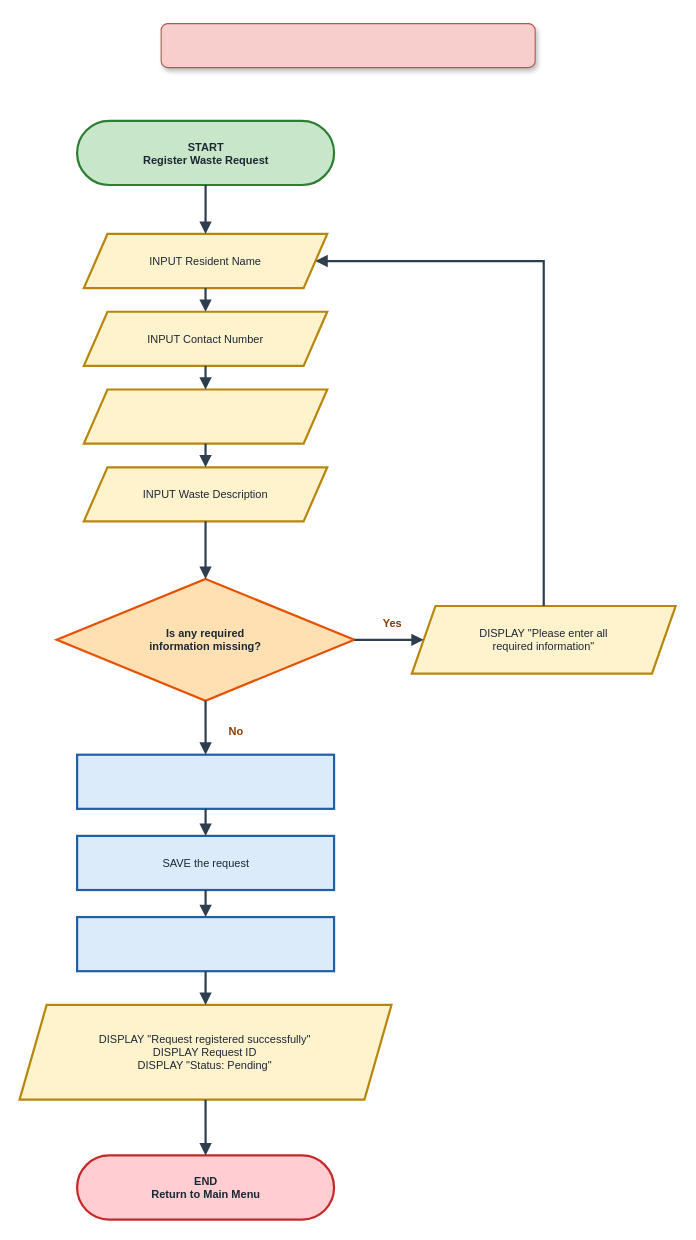
This 696x1240 diagram has some shape labels left out. Each missing label, with the centre of its shape:
ASSIGN unique Request ID: (205,781)
INPUT Waste Location: (205,416)
Register Waste Request Flowchart: (349,46)
SET Status = "Pending": (205,943)
